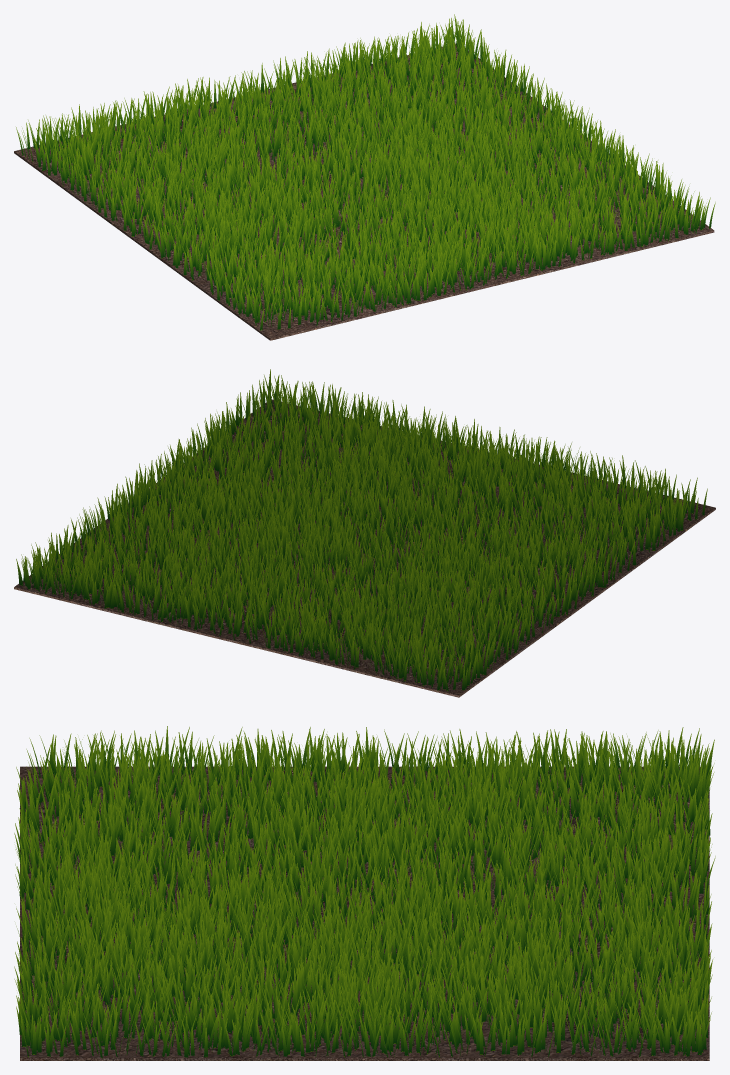
The model's file is patch_of_grass.obj.
3 views of the same model, one above another, from view 1: azimuth 30°, elevation 25°; view 2: azimuth 150°, elevation 25°; view 3: azimuth 270°, elevation 25° (orthographic). The views are drawn at different scales.
Visible parts, largest first — view 1: obj9422; view 2: obj9422; view 3: obj9422.
Part boxes in pixels (x1,y1,x2,y2): obj9422: [14, 43, 714, 340]; obj9422: [14, 399, 715, 697]; obj9422: [20, 766, 709, 1060].
Size of the model in its own units: 204 by 13.57 by 204.
2 materials, 2 textured.
